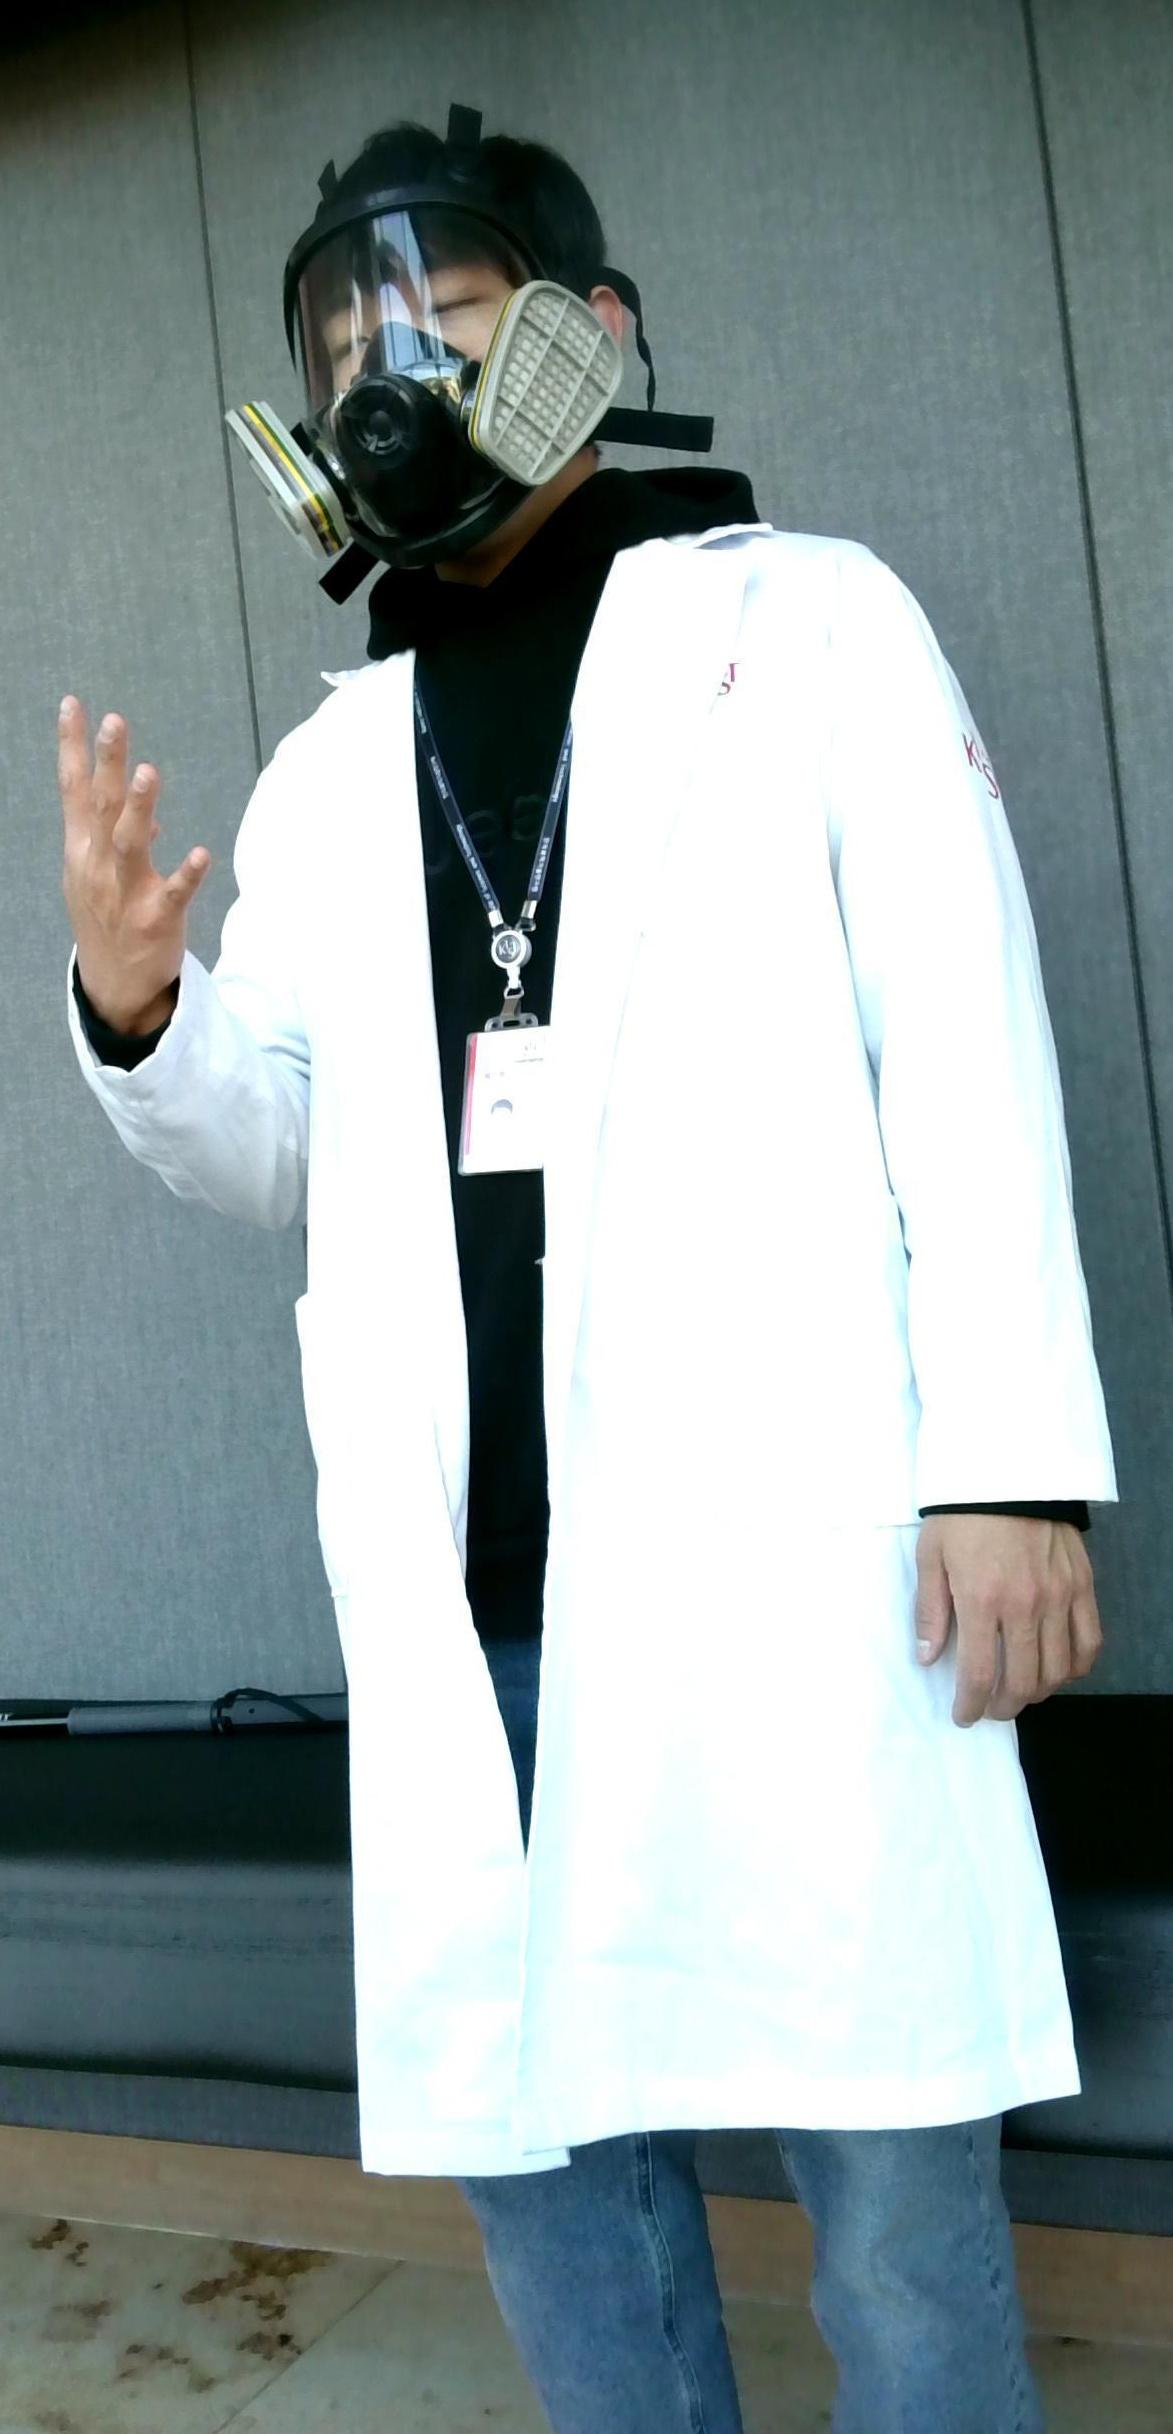lab_coat: (261, 595, 951, 2111)
